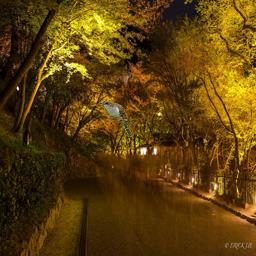Cuckoo: (98, 101, 132, 137)
